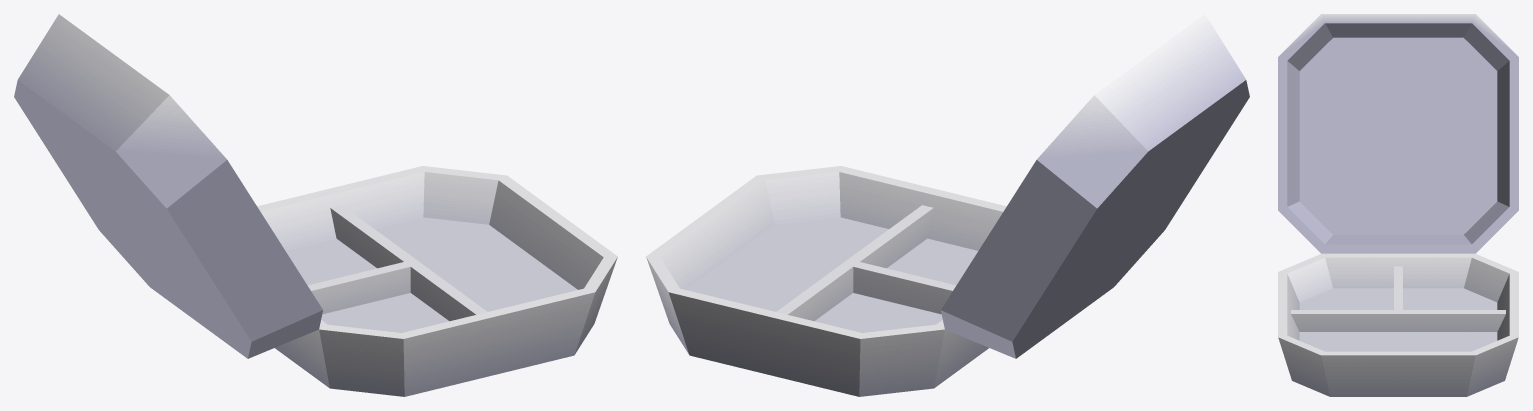
The model's file is TakeawayClamshellEmpty.obj.
3 renders of one model, left to right at view 1: azimuth 30°, elevation 25°; view 2: azimuth 150°, elevation 25°; view 3: azimuth 270°, elevation 25°, orthographic. The views are drawn at different scales.
Visible parts, largest first — view 1: styrofoam, lid; view 2: styrofoam, lid; view 3: lid, styrofoam.
Boxes of the visible parts, x1,y1,x2,y2 form: styrofoam: (257, 166, 617, 396); lid: (14, 14, 322, 358); styrofoam: (646, 166, 1006, 396); lid: (941, 14, 1249, 358); lid: (1278, 14, 1518, 253); styrofoam: (1278, 253, 1518, 396).
Size of the model in its own units: 0.4407 by 0.2877 by 0.2656.
Materials: 1 (1 with a texture image).
